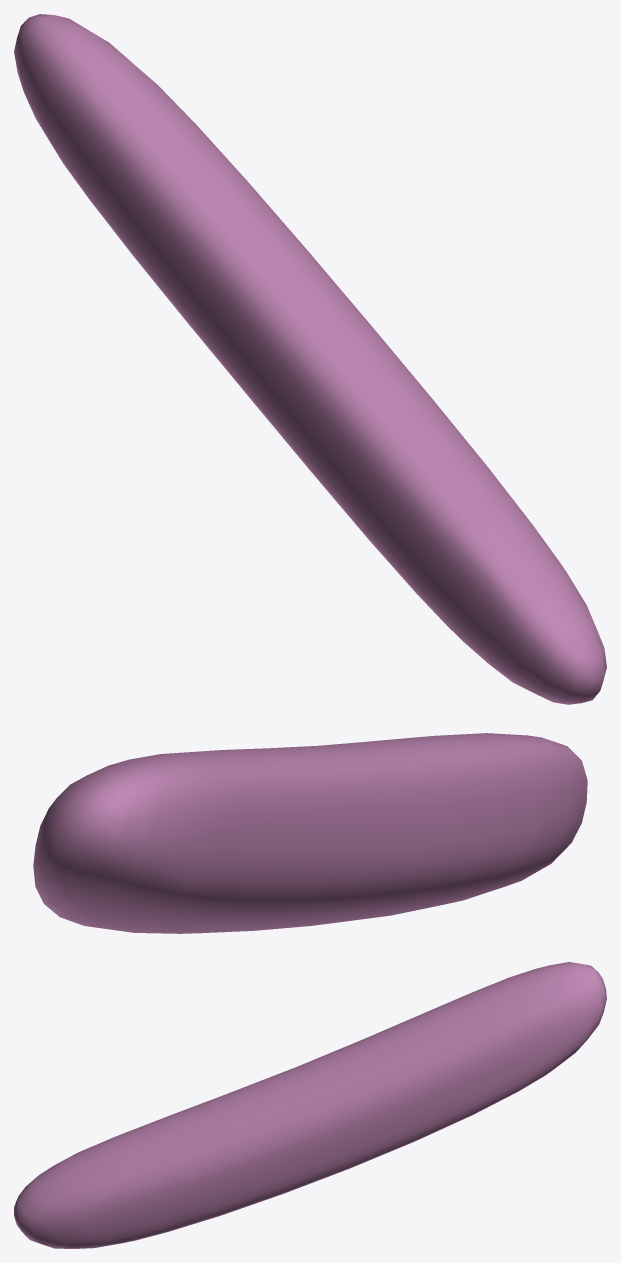
The picture shows the model from 3 angles, top to bottom: view 1: azimuth 30°, elevation 25°; view 2: azimuth 150°, elevation 25°; view 3: azimuth 270°, elevation 25°; orthographic projection. The views are drawn at different scales.
Visible parts, largest first — view 1: 左侧疑核; view 2: 左侧疑核; view 3: 左侧疑核.
Boxes of the visible parts, x1,y1,x2,y2 form: 左侧疑核: (14, 14, 606, 704); 左侧疑核: (33, 733, 587, 933); 左侧疑核: (14, 962, 606, 1248).
Size of the model in its own units: 0.00215 by 0.0047 by 0.0101.
